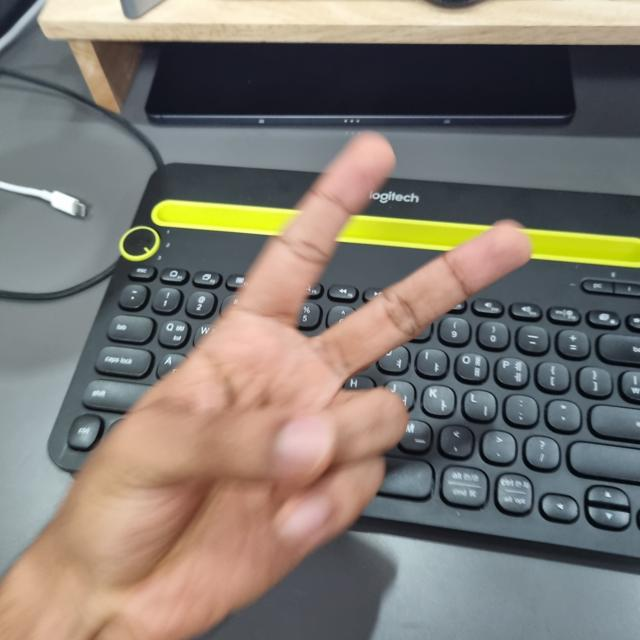Scissors: (22, 135, 525, 639)
